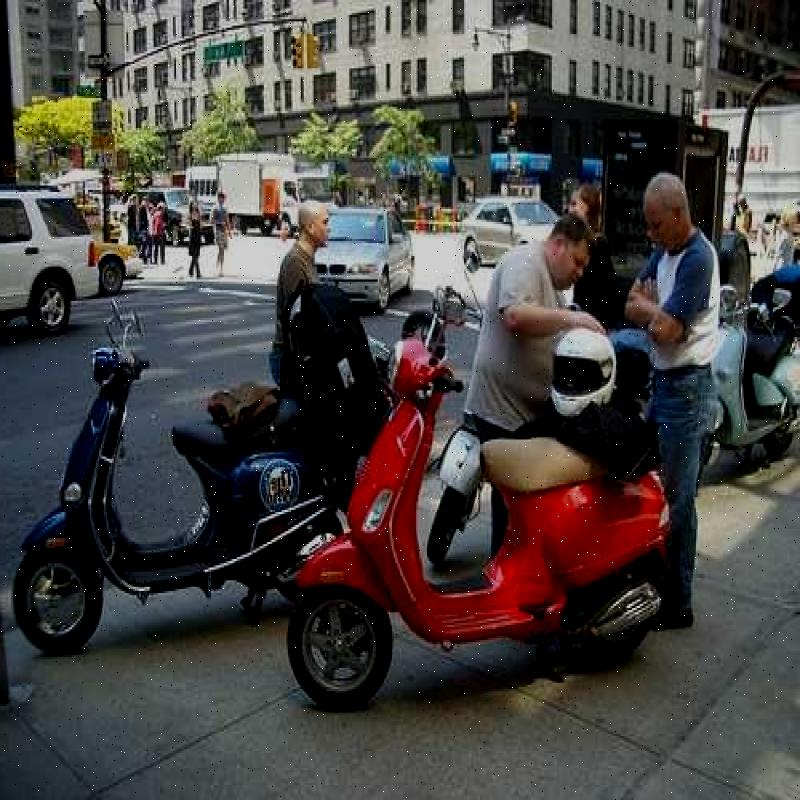bike: (300, 294, 667, 700), (4, 303, 303, 662)
